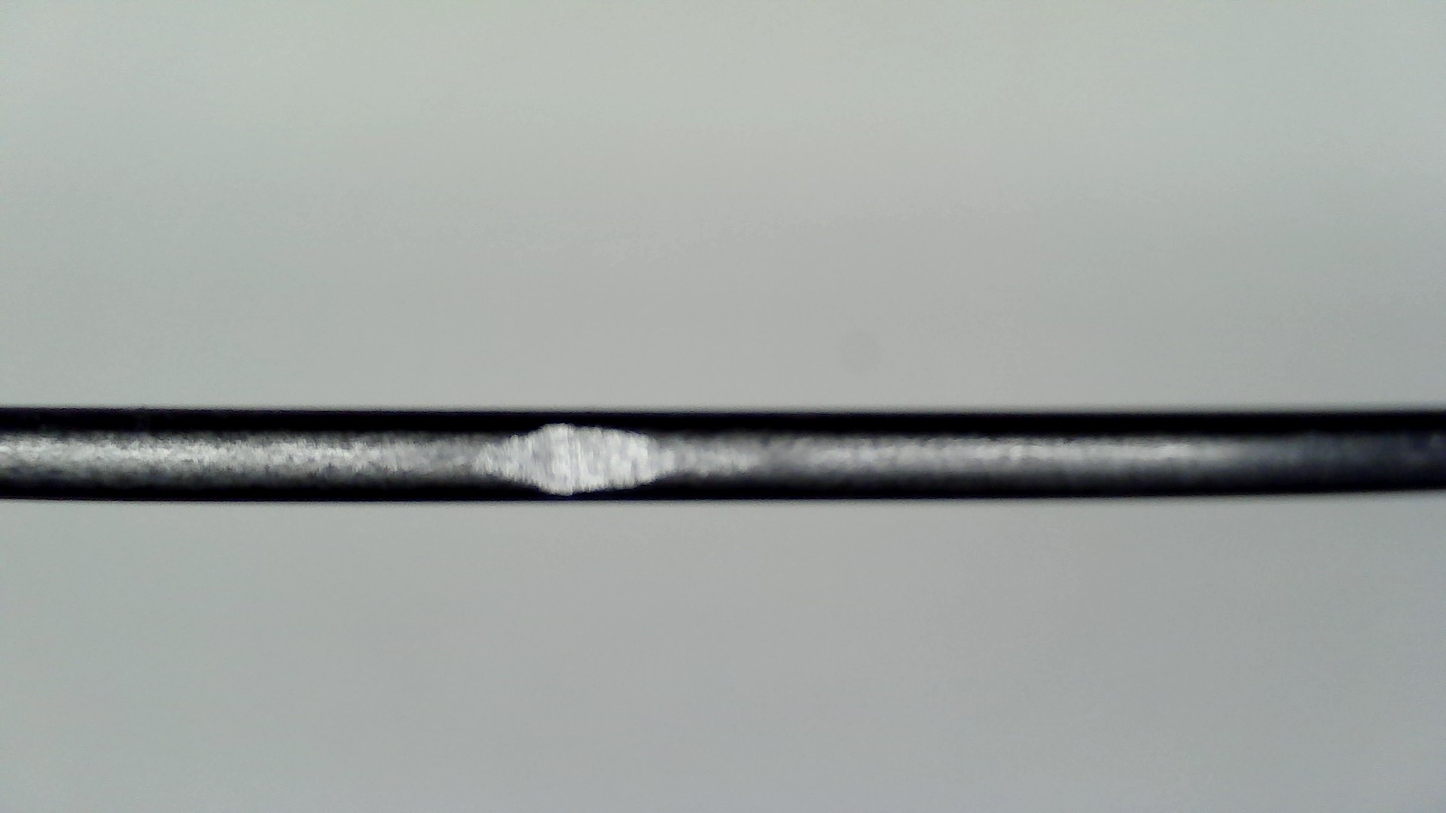defect: (468, 424, 708, 498)
